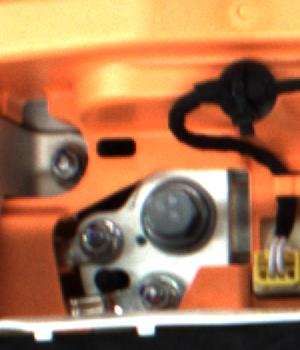nut_b: (139, 178, 224, 254)
screw_s: (47, 143, 83, 184), (79, 219, 118, 254), (140, 277, 179, 312)
